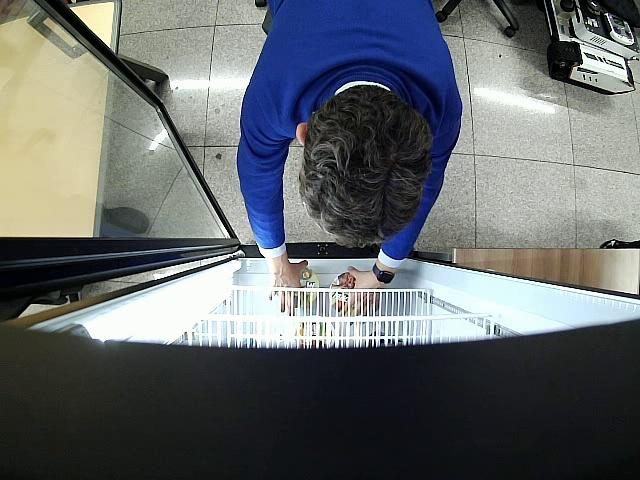00_hand: (268, 261, 308, 316), (344, 266, 384, 316)
03_chapagetti_L: (332, 272, 356, 317), (294, 268, 318, 308)
